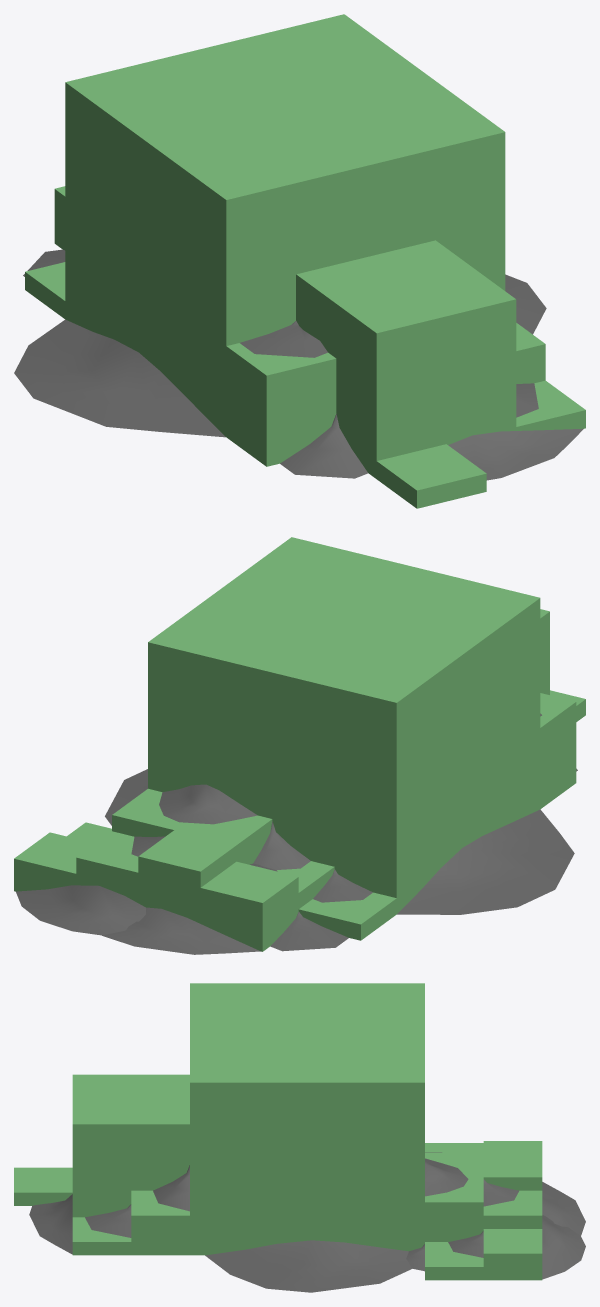
File: Mountain_A.fbx
3 renders of one model, top to bottom at view 1: azimuth 30°, elevation 25°; view 2: azimuth 150°, elevation 25°; view 3: azimuth 270°, elevation 25°, orthographic. The views are drawn at different scales.
Visible parts, largest first — view 1: SM_Cube_1m3, SM_Cube_1m4, pDisc1, SM_Cube_1m13, SM_Cube_1m28, pDisc13, pCone1, SM_Cube_1m6, pCone6, SM_Cube_1m11, SM_Cube_1m5, pDisc2 (+2 smaller); view 2: SM_Cube_1m3, pDisc1, SM_Cube_1m2, SM_Cube_1m12, pDisc15, pDisc14, SM_Cube_1m13, SM_Cube_1m1, SM_Cube_1m8, SM_Cube_1m11, pDisc16, SM_Cube_1m9 (+7 smaller); view 3: SM_Cube_1m3, SM_Cube_1m4, pDisc2, SM_Cube_1m5, SM_Cube_1m2, SM_Cube_1m1, SM_Cube_1m9, SM_Cube_1m28, pDisc15, SM_Cube_1m8, SM_Cube_1m7, pDisc13 (+9 smaller).
Boxes of the visible parts, bbox=[...] form: SM_Cube_1m3: bbox=[65, 14, 505, 436]; SM_Cube_1m4: bbox=[296, 240, 516, 478]; pDisc1: bbox=[14, 319, 225, 437]; SM_Cube_1m13: bbox=[226, 343, 336, 466]; SM_Cube_1m28: bbox=[376, 444, 486, 508]; pDisc13: bbox=[448, 428, 583, 480]; pCone1: bbox=[280, 414, 367, 478]; SM_Cube_1m6: bbox=[516, 380, 585, 430]; pCone6: bbox=[240, 321, 327, 357]; SM_Cube_1m11: bbox=[25, 262, 65, 318]; SM_Cube_1m5: bbox=[516, 323, 545, 383]; pDisc2: bbox=[505, 274, 546, 334]; SM_Cube_1m3: bbox=[148, 537, 540, 914]; pDisc1: bbox=[397, 809, 574, 914]; SM_Cube_1m2: bbox=[138, 815, 272, 923]; SM_Cube_1m12: bbox=[200, 861, 298, 951]; pDisc15: bbox=[16, 885, 145, 935]; pDisc14: bbox=[102, 907, 260, 954]; SM_Cube_1m13: bbox=[540, 693, 576, 808]; SM_Cube_1m1: bbox=[14, 832, 94, 891]; SM_Cube_1m8: bbox=[76, 831, 138, 902]; SM_Cube_1m11: bbox=[298, 892, 396, 940]; pDisc16: bbox=[159, 784, 257, 824]; SM_Cube_1m9: bbox=[112, 788, 183, 836]; SM_Cube_1m3: bbox=[190, 983, 424, 1255]; SM_Cube_1m4: bbox=[72, 1074, 189, 1217]; pDisc2: bbox=[205, 1240, 412, 1292]; SM_Cube_1m5: bbox=[131, 1190, 189, 1255]; SM_Cube_1m2: bbox=[425, 1152, 542, 1190]; SM_Cube_1m1: bbox=[483, 1229, 542, 1280]; SM_Cube_1m9: bbox=[425, 1177, 483, 1241]; SM_Cube_1m28: bbox=[14, 1167, 72, 1205]; pDisc15: bbox=[542, 1215, 585, 1279]; SM_Cube_1m8: bbox=[483, 1190, 542, 1228]; SM_Cube_1m7: bbox=[425, 1242, 483, 1280]; pDisc13: bbox=[29, 1194, 72, 1254].
Bounding box in the file's own units: 2802 × 1300 × 3896.
